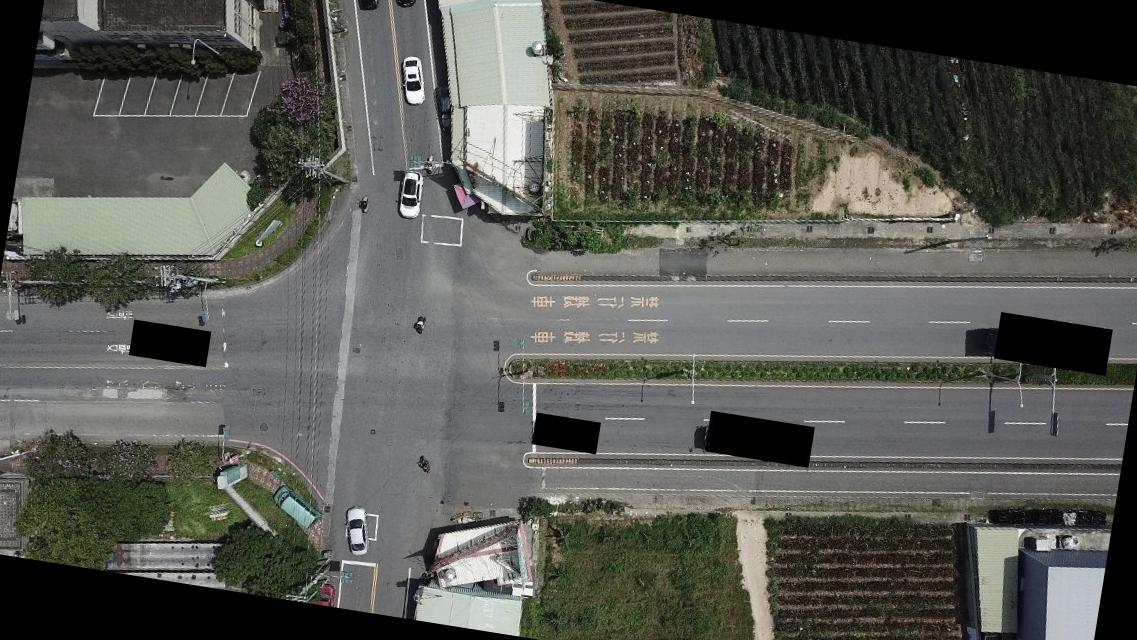vehicle: (268, 483, 325, 530), (395, 52, 431, 106), (340, 502, 375, 556), (395, 170, 425, 222), (431, 85, 458, 132), (314, 583, 340, 606), (348, 0, 385, 13), (386, 0, 421, 10)
